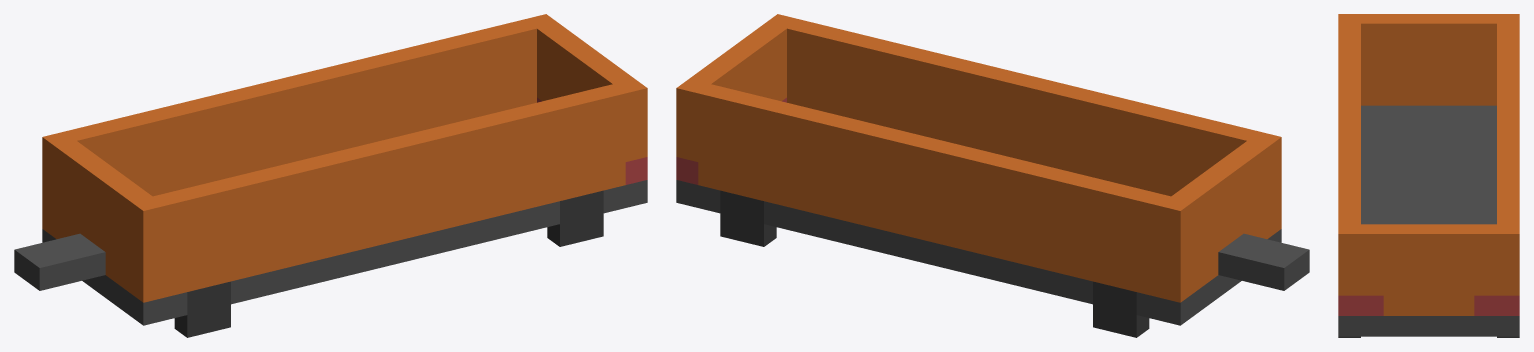
Rendered from tractor-trailer-v1-orange.gltf.
The picture shows the model from 3 angles, left to right: view 1: azimuth 30°, elevation 25°; view 2: azimuth 150°, elevation 25°; view 3: azimuth 270°, elevation 25°; orthographic projection. The views are drawn at different scales.
Parts seen in each view (by area): view 1: model, wheels; view 2: model, wheels; view 3: model.
Part boxes in pixels (x1,y1,x2,y2): model: (14, 14, 647, 337); wheels: (174, 191, 603, 336); model: (676, 14, 1309, 337); wheels: (720, 192, 1149, 336); model: (1338, 14, 1519, 337).
Bounding box in the file's own units: 2.6 × 0.6 × 0.8.
2 materials, 2 textured.
